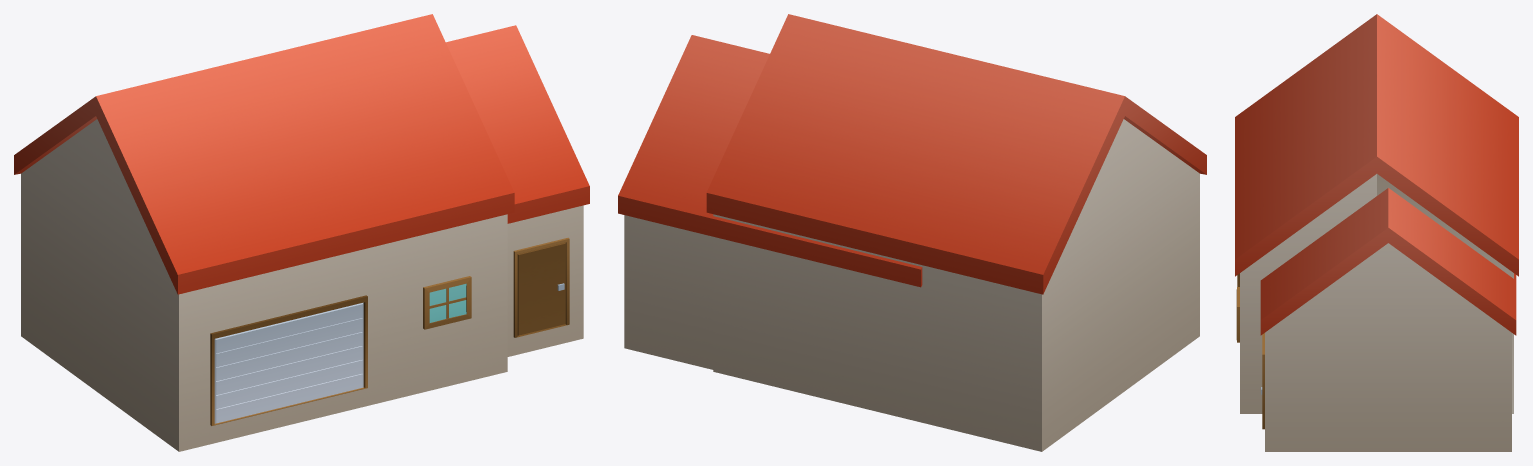
File: House.fbx
3 views of the same model, side by side, from view 1: azimuth 30°, elevation 25°; view 2: azimuth 150°, elevation 25°; view 3: azimuth 270°, elevation 25° (orthographic). The views are drawn at different scales.
Parts seen in each view (by area): view 1: 1 House scale; view 2: 1 House scale; view 3: 1 House scale.
Boxes of the visible parts, bbox=[...] form: 1 House scale: bbox=[14, 14, 589, 451]; 1 House scale: bbox=[618, 14, 1206, 451]; 1 House scale: bbox=[1235, 14, 1518, 451].
Size of the model in its own units: 1559 by 1043 by 1035.
